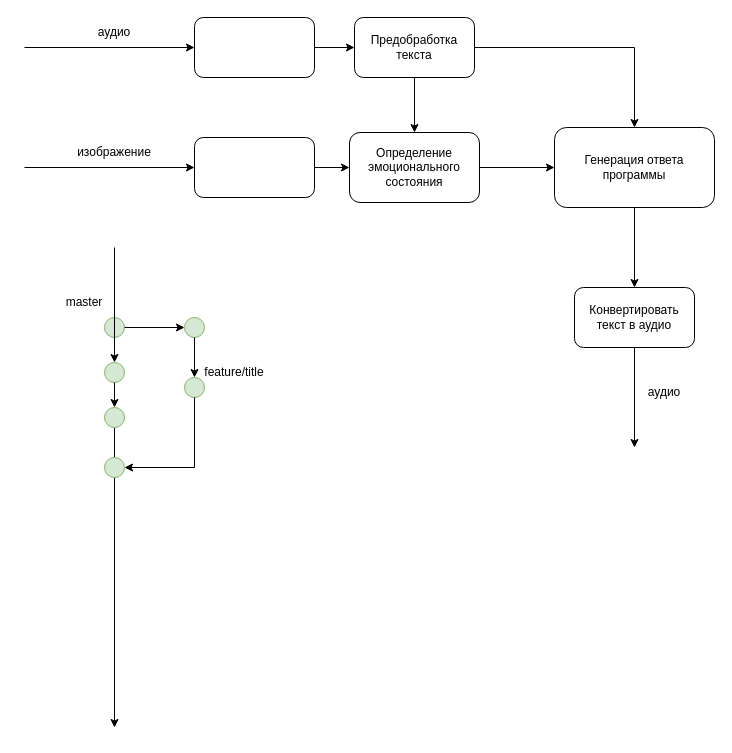
Image size: 732x753. Some labels were removed from this diagram. The centre of each missing label's shape, as x and y in pixels:
"Конвертировать аудио в текст" goes at point (254, 47).
"Предобработка изображения" goes at point (254, 167).
